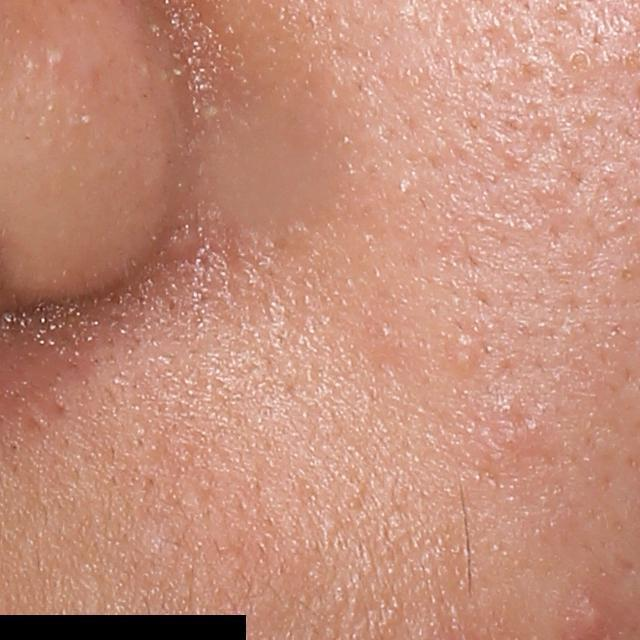comedo: (561, 46, 597, 74)
papule: (570, 595, 612, 640)
